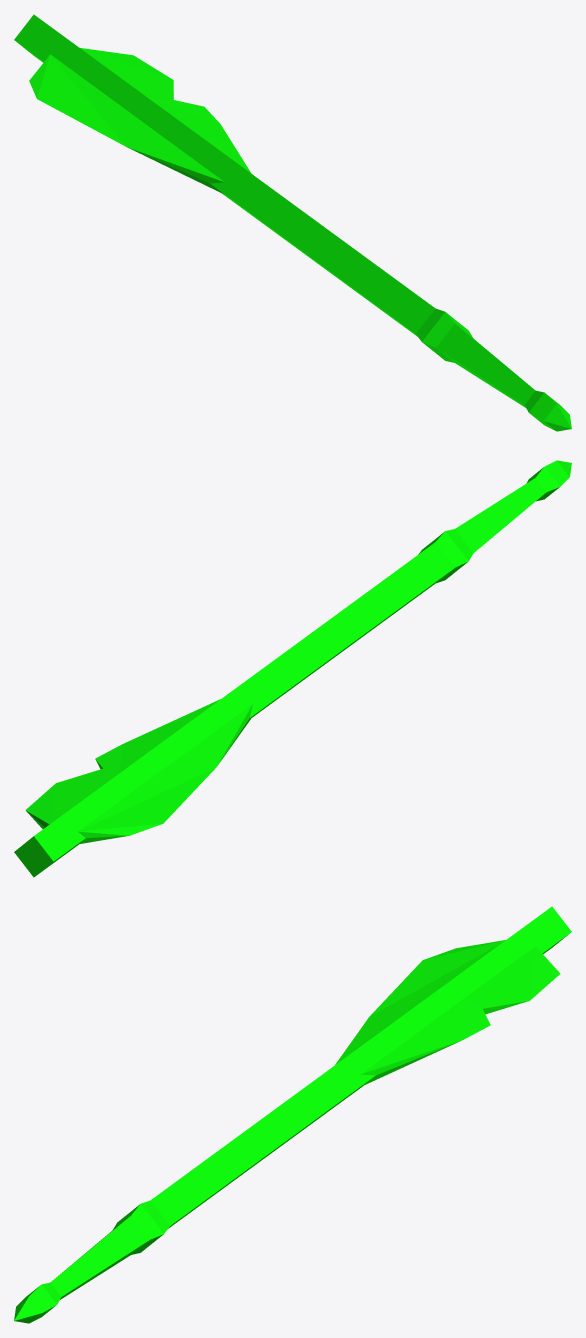
Rendered from SM_Bolt_C_Fantasy.fbx.
3 renders of one model, top to bottom at view 1: azimuth 30°, elevation 25°; view 2: azimuth 150°, elevation 25°; view 3: azimuth 330°, elevation 25°, orthographic.
Parts seen in each view (by area): view 1: bolt-c-fantasy; view 2: bolt-c-fantasy; view 3: bolt-c-fantasy.
Part boxes in pixels (x1,y1,x2,y2): bolt-c-fantasy: (14, 14, 571, 431); bolt-c-fantasy: (14, 460, 571, 877); bolt-c-fantasy: (14, 906, 571, 1323).
Bounding box in the file's own units: 0.0367 × 0.0141 × 0.2807.
